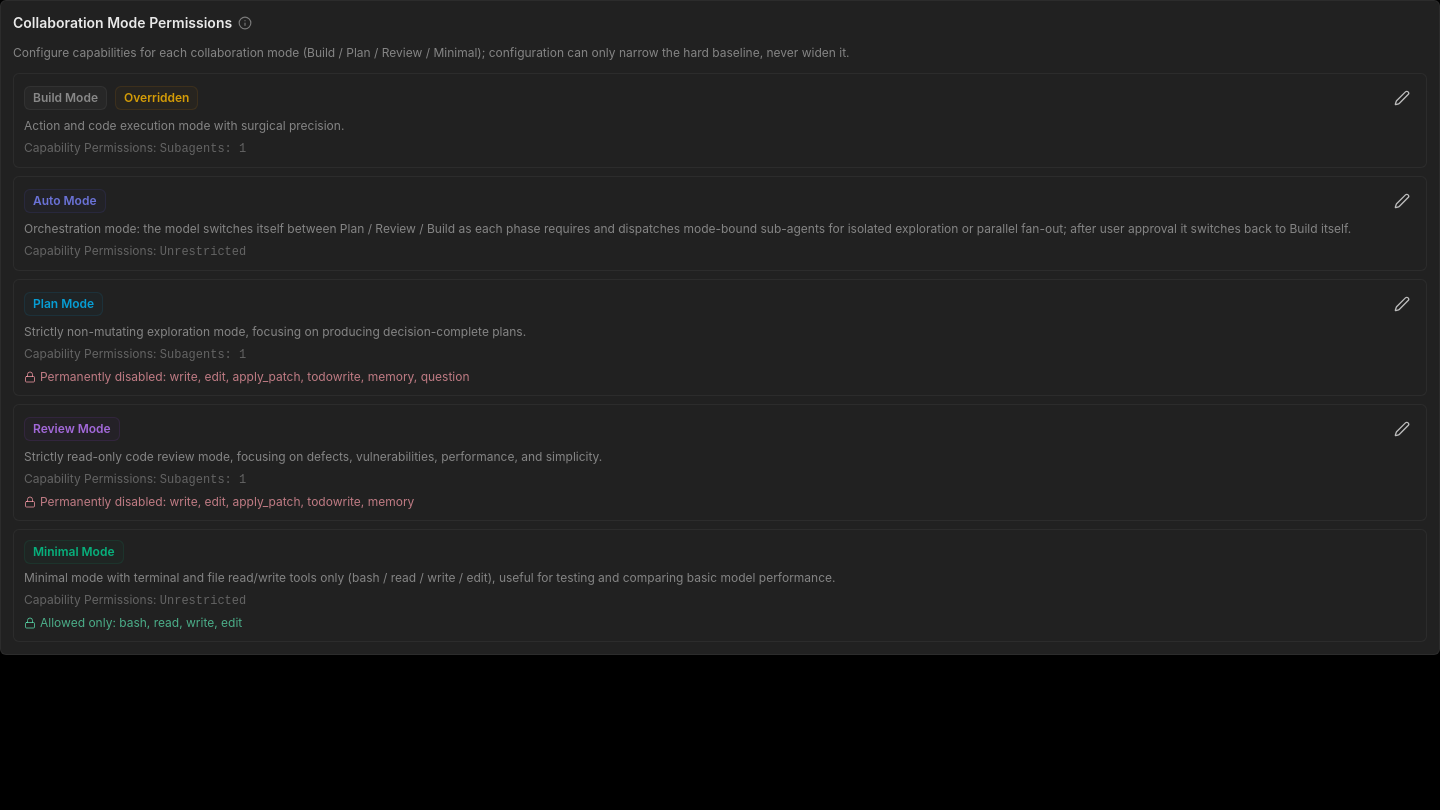
it: CollaborationModePermissions › build 弹窗无锁定角色（硬基线为空），worker 可勾选
Click the button named "Edit permissions Build Mode": (1402,98) [1388, 84, 1416, 112]
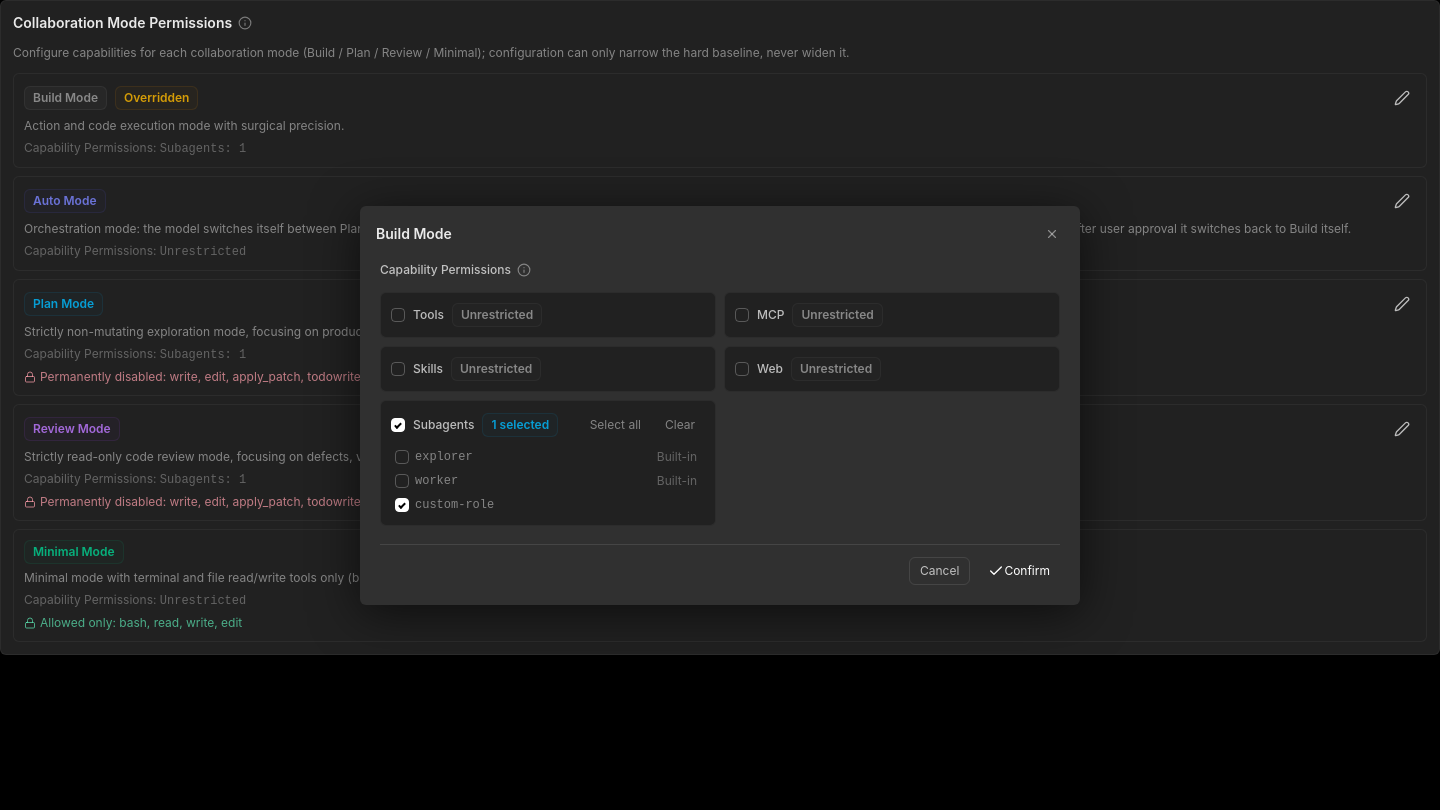
Result: the checkbox labelled "worker" is shown at [391, 470, 701, 490]
